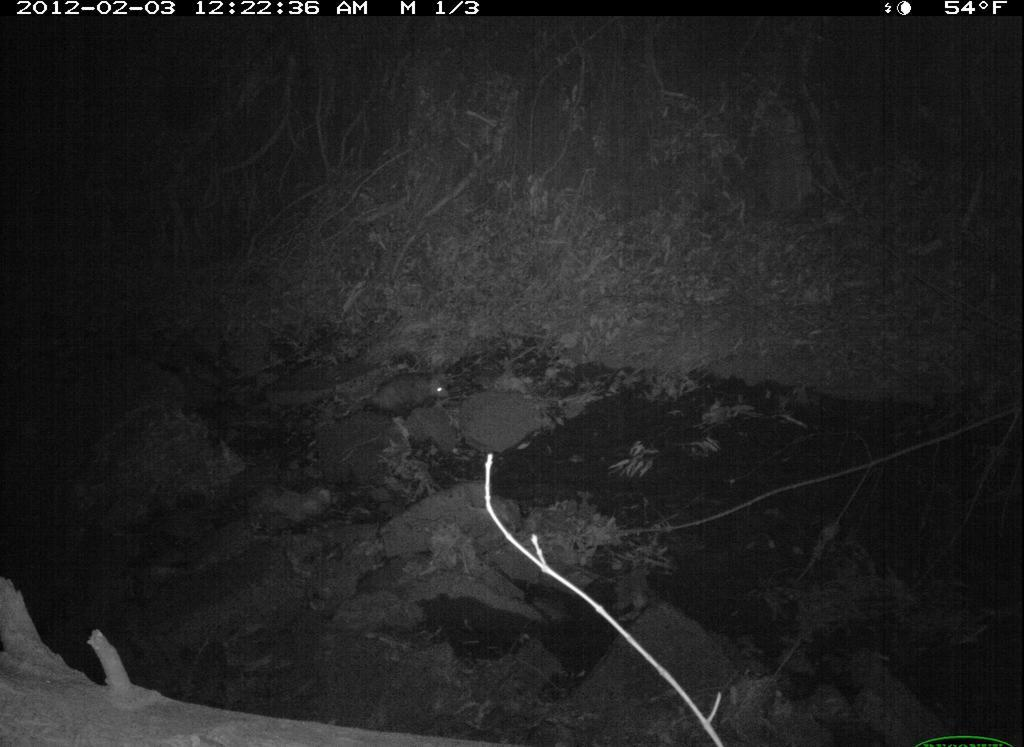opossum: (336, 369, 453, 424)
